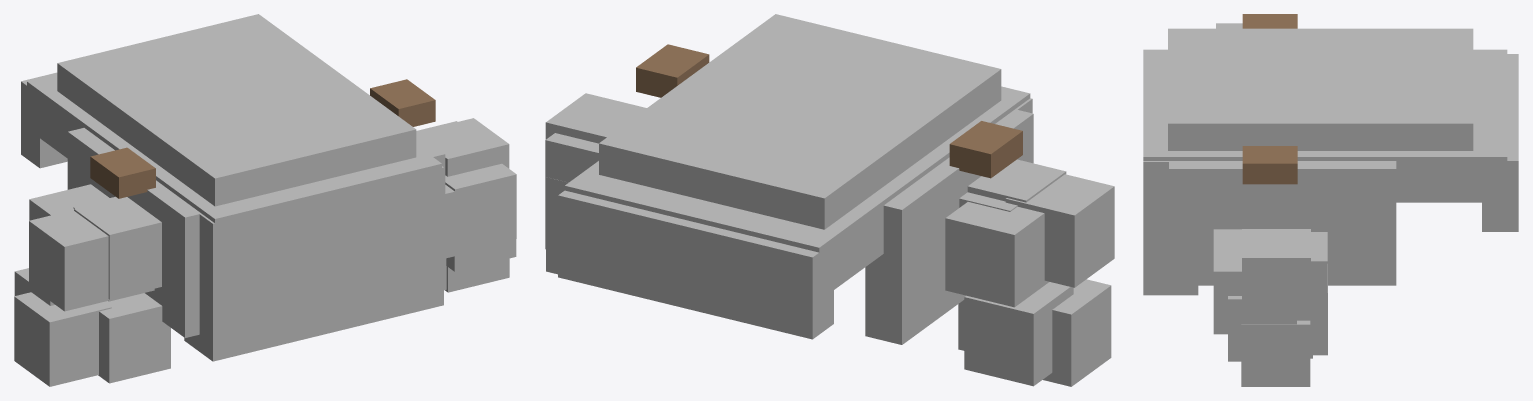
File: cabelo_marias_chiquinhas.glb
3 renders of one model, left to right at view 1: azimuth 30°, elevation 25°; view 2: azimuth 150°, elevation 25°; view 3: azimuth 270°, elevation 25°, orthographic. The views are drawn at different scales.
Visible parts, largest first — view 1: cabelo_marias_chiquinhas; view 2: cabelo_marias_chiquinhas; view 3: cabelo_marias_chiquinhas.
Part boxes in pixels (x1,y1,x2,y2): cabelo_marias_chiquinhas: [14, 14, 516, 386]; cabelo_marias_chiquinhas: [545, 14, 1114, 386]; cabelo_marias_chiquinhas: [1143, 14, 1518, 386].
Bounding box in the file's own units: 1.13 × 0.483 × 0.817.
